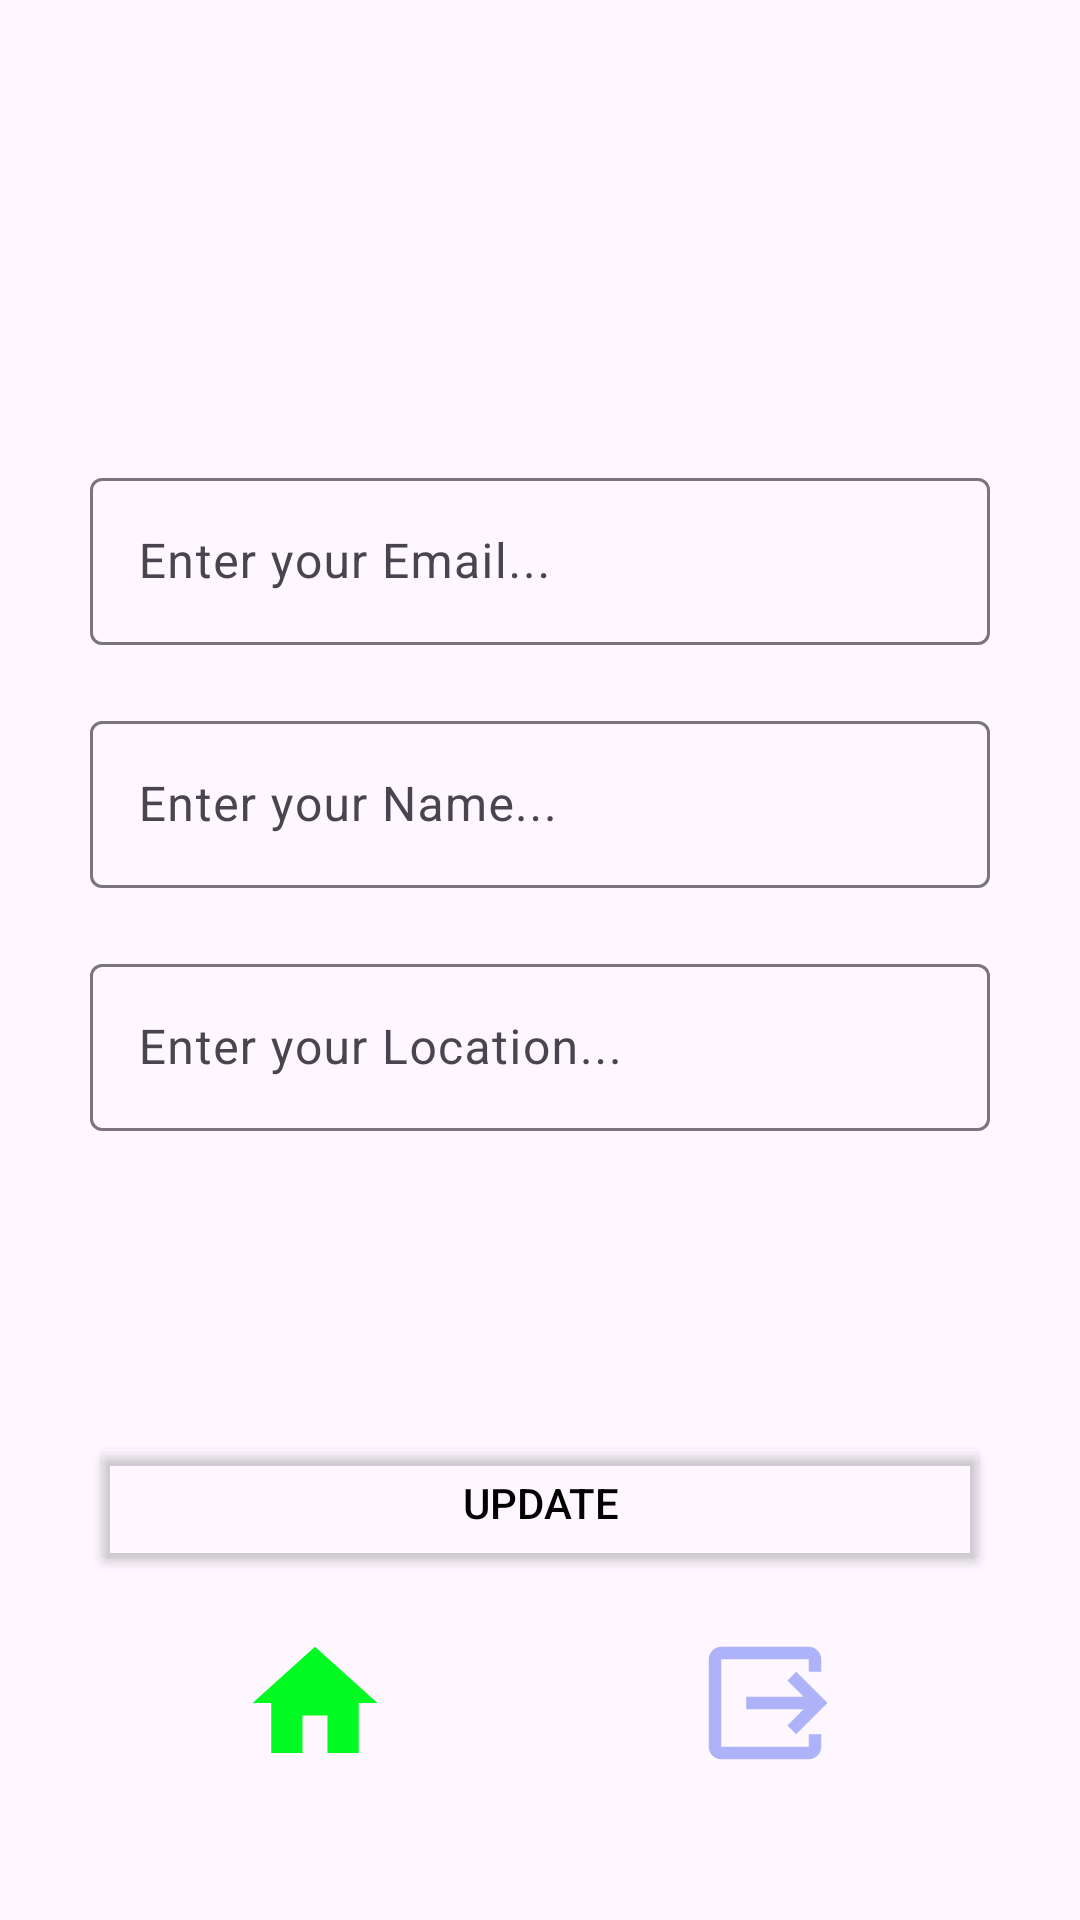

Icon click points for this 1080 × 1920 phone screenshot, format (x,y):
home: (315,1700)
